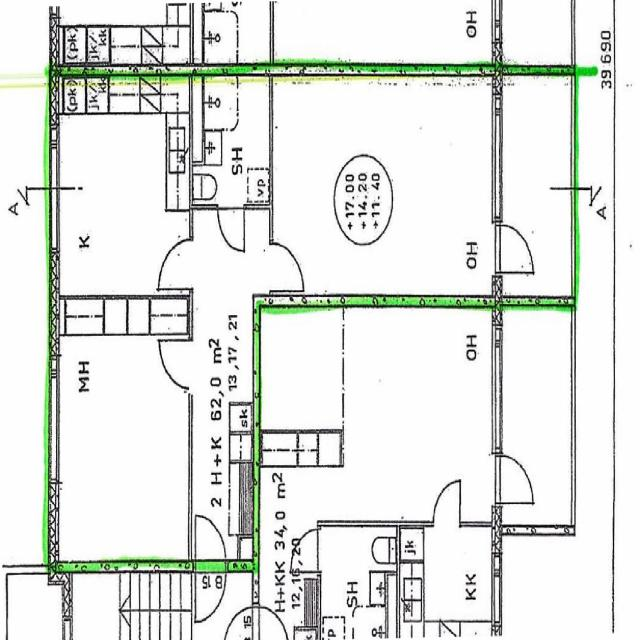door: (492, 226, 533, 272), (156, 239, 193, 289), (156, 339, 193, 388), (195, 560, 226, 618), (195, 514, 226, 572), (270, 243, 306, 291), (217, 204, 244, 248)
